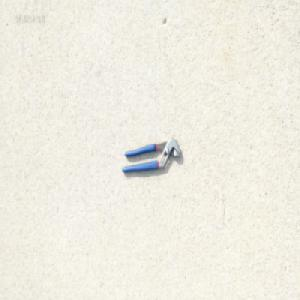Pliers: (120, 135, 180, 173)
